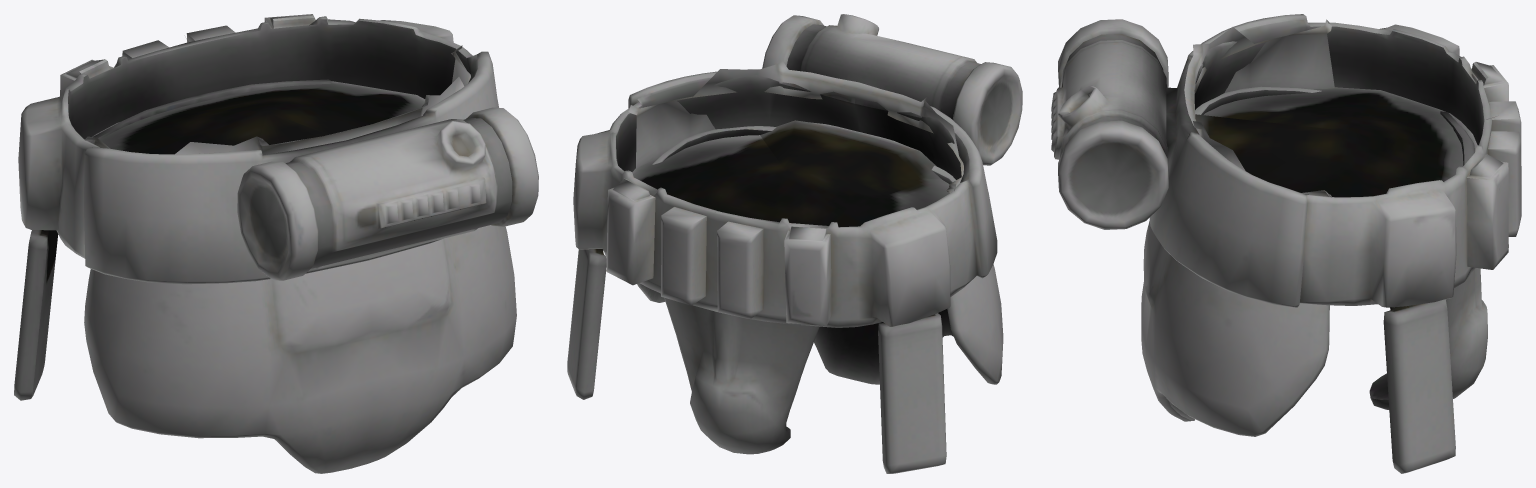
File: Stormtrooper_Belt.fbx
The picture shows the model from 3 angles, left to right: view 1: azimuth 30°, elevation 25°; view 2: azimuth 150°, elevation 25°; view 3: azimuth 270°, elevation 25°; orthographic projection. The views are drawn at different scales.
Visible parts, largest first — view 1: Ammo Belt; view 2: Ammo Belt; view 3: Ammo Belt.
Boxes of the visible parts, x1,y1,x2,y2 form: Ammo Belt: (14, 14, 538, 473); Ammo Belt: (567, 14, 1022, 473); Ammo Belt: (1051, 14, 1521, 473).
Bounding box in the file's own units: 0.485 × 0.3925 × 0.4806.
